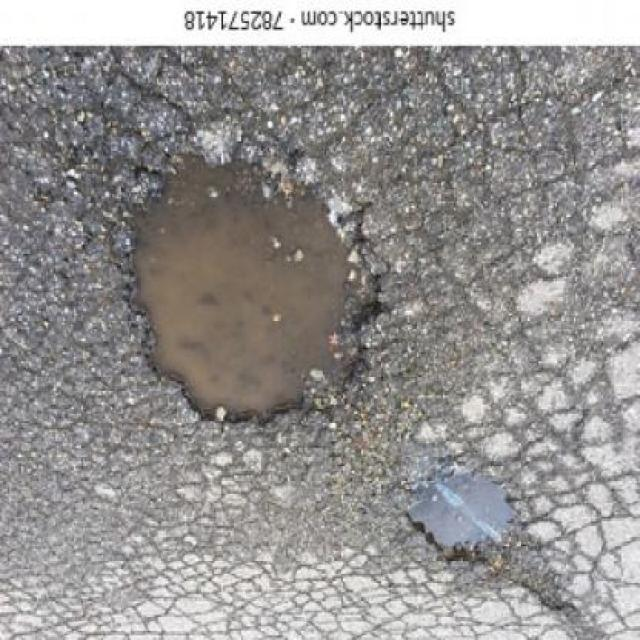Pothole: (117, 148, 385, 432), (406, 471, 572, 605)
